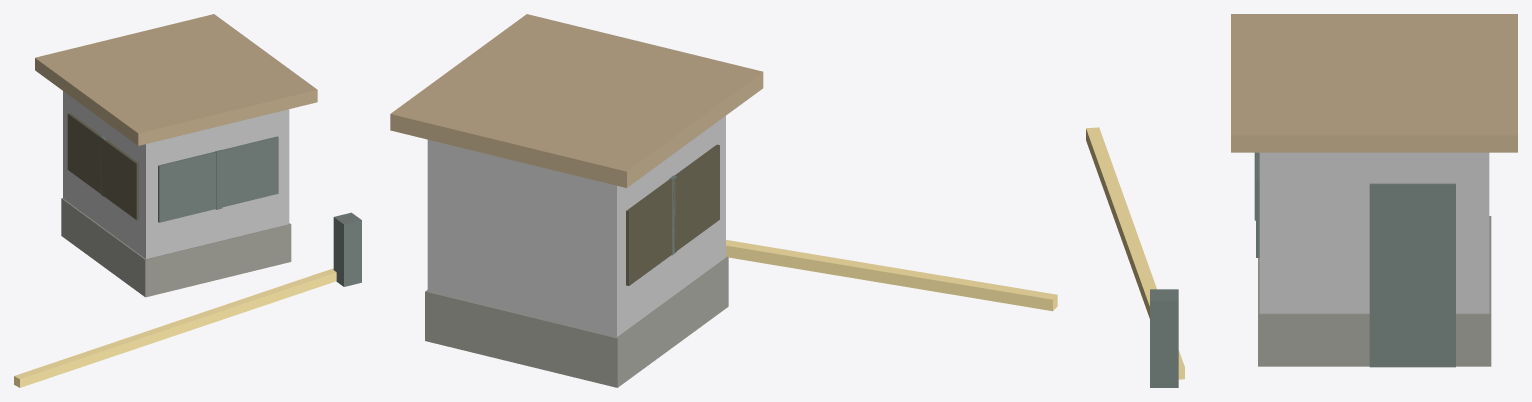
Rendered from SM_Garita_v4_LOD0.fbx.
3 views of the same model, side by side, from view 1: azimuth 30°, elevation 25°; view 2: azimuth 150°, elevation 25°; view 3: azimuth 270°, elevation 25° (orthographic). The views are drawn at different scales.
Parts seen in each view (by area): view 1: SM_garita_v4_LOD0, Barrera; view 2: SM_garita_v4_LOD0, Barrera; view 3: SM_garita_v4_LOD0, Barrera.
Part boxes in pixels (x1,y1,x2,y2): SM_garita_v4_LOD0: (35,14,361,297); Barrera: (14,268,336,387); SM_garita_v4_LOD0: (390,14,763,387); Barrera: (726,240,1057,311); SM_garita_v4_LOD0: (1150,14,1517,387); Barrera: (1086,127,1184,379).
Size of the model in its own units: 6.13 by 2.8 by 4.52.
